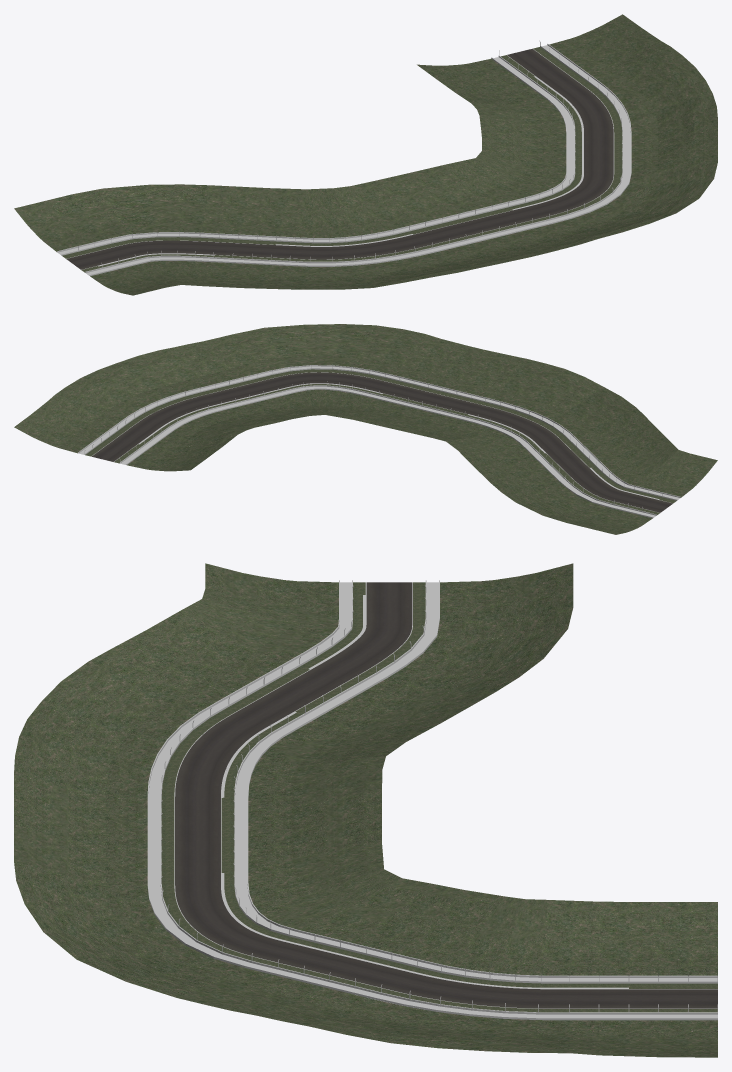
The picture shows the model from 3 angles, top to bottom: view 1: azimuth 30°, elevation 25°; view 2: azimuth 150°, elevation 25°; view 3: azimuth 270°, elevation 25°; orthographic projection. The views are drawn at different scales.
Parts seen in each view (by area): view 1: Grass, Road, Track; view 2: Grass, Road, Track; view 3: Grass, Road, Track.
Part boxes in pixels (x1,y1,x2,y2): Grass: (14, 14, 717, 295); Road: (66, 48, 613, 269); Track: (57, 40, 631, 276); Grass: (14, 324, 717, 534); Road: (92, 372, 672, 512); Track: (78, 364, 680, 518); Grass: (14, 563, 717, 1057); Road: (175, 582, 717, 1008); Track: (147, 580, 717, 1020).
Bounding box in the file's own units: 445 × 10.77 × 268.
